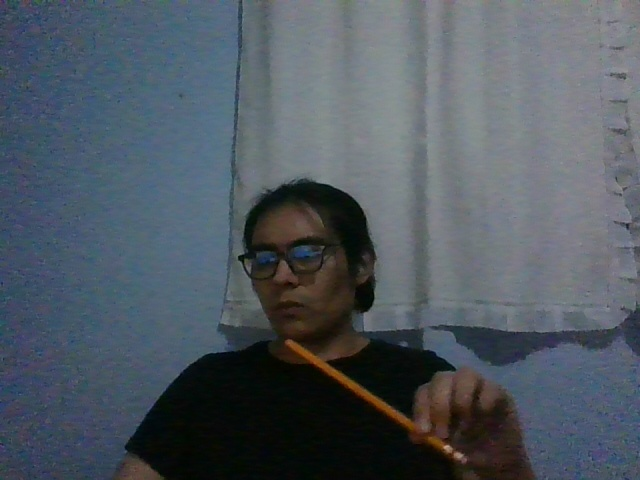lapiz: (284, 338, 468, 464)
